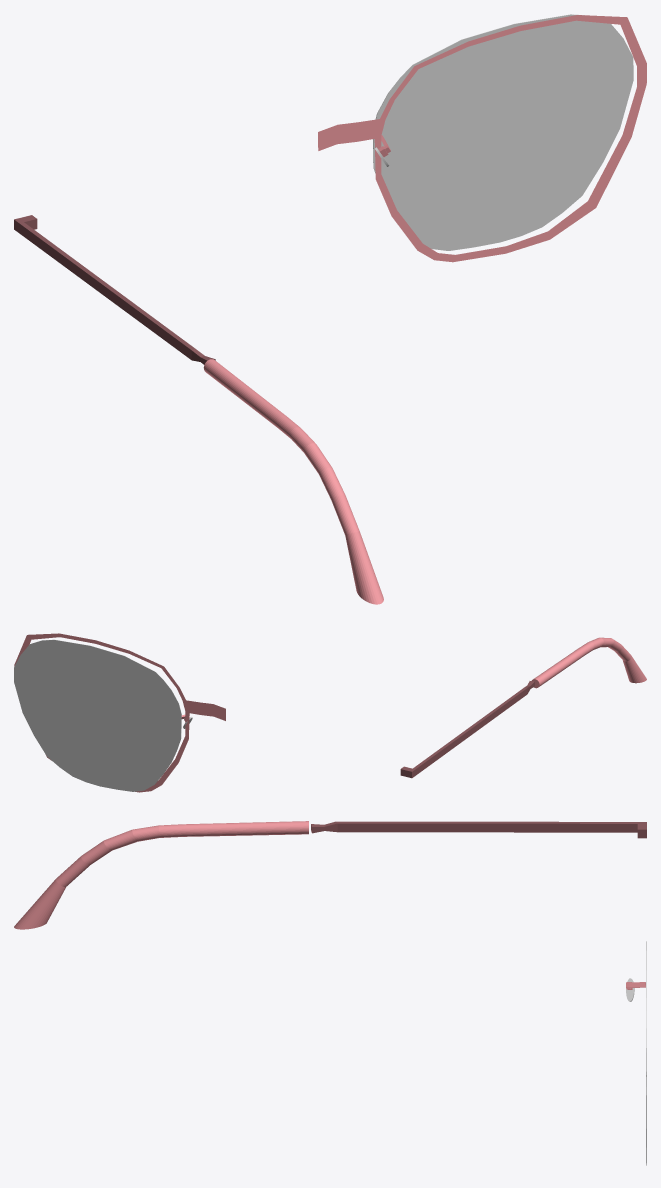
Rendered from sampleS.glb.
3 renders of one model, top to bottom at view 1: azimuth 30°, elevation 25°; view 2: azimuth 150°, elevation 25°; view 3: azimuth 270°, elevation 25°, orthographic. The views are drawn at different scales.
Parts seen in each view (by area): view 1: Plane.001, Plane, Circle, Cube; view 2: Plane.001, Plane, Circle, Cube; view 3: Circle, Cube.
Part boxes in pixels (x1=…): Plane.001: x1=373, y1=14, x2=633, y2=250; Plane: x1=318, y1=15, x2=646, y2=262; Circle: x1=203, y1=359, x2=383, y2=604; Cube: x1=14, y1=215, x2=215, y2=364; Plane.001: x1=14, y1=639, x2=181, y2=791; Plane: x1=14, y1=633, x2=225, y2=792; Circle: x1=531, y1=637, x2=646, y2=688; Cube: x1=400, y1=681, x2=534, y2=778; Circle: x1=14, y1=821, x2=308, y2=929; Cube: x1=311, y1=821, x2=646, y2=838.
Bounding box in the file's own units: 14.44 × 4.89 × 14.35.
